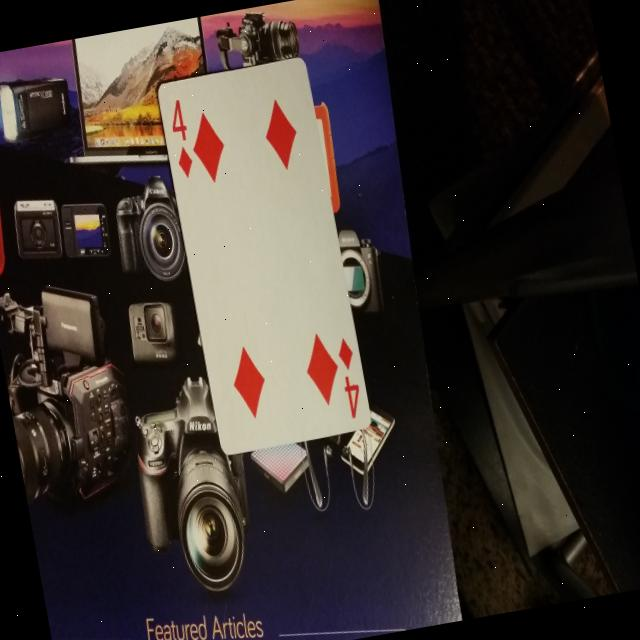4d: (161, 88, 208, 192), (329, 328, 368, 421)
